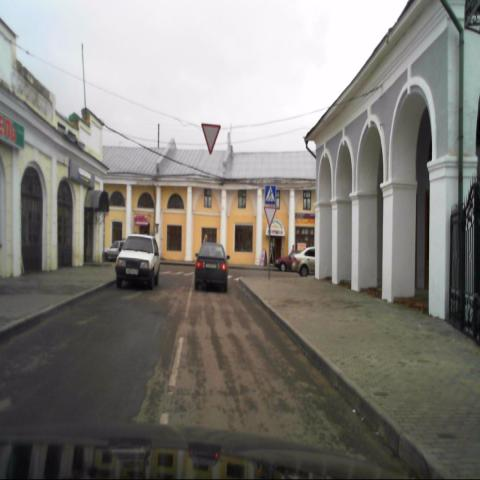2_4: (201, 123, 221, 156)
